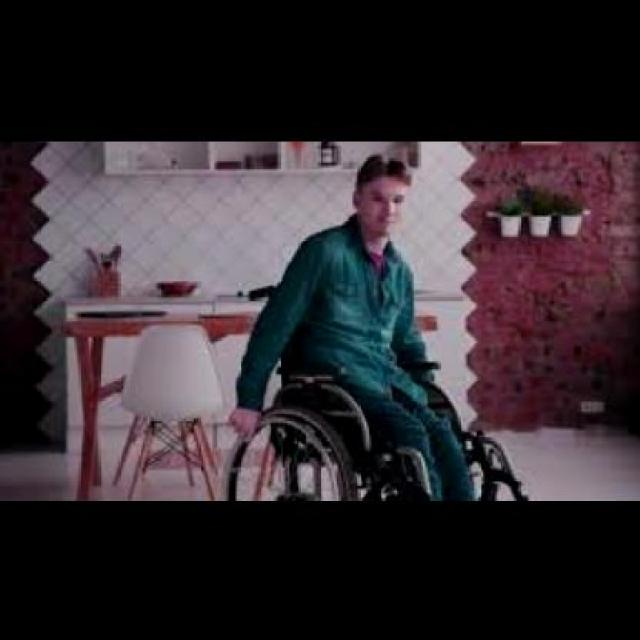wheelchairs: (200, 330, 530, 503)
